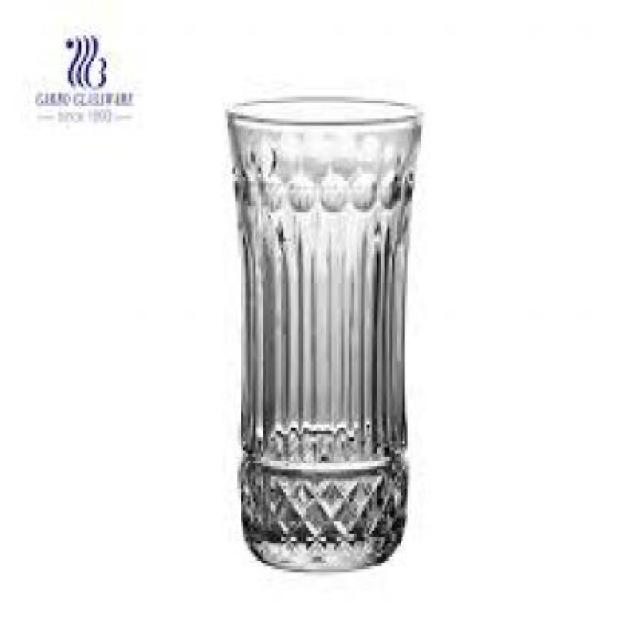kaca: (226, 94, 419, 566)
